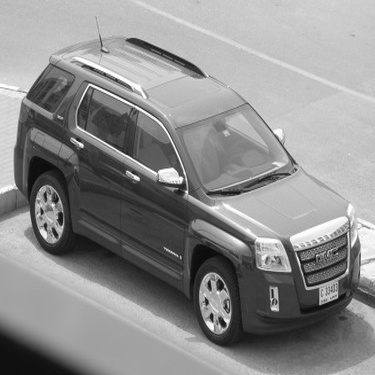car: (1, 32, 369, 347)
